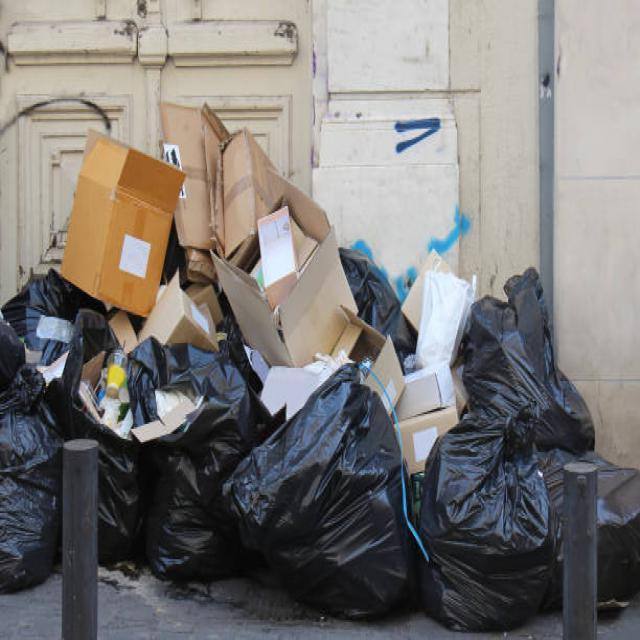Trashbag: (236, 393, 422, 605), (425, 428, 586, 628), (455, 297, 597, 438), (148, 431, 245, 597), (0, 370, 55, 582), (6, 267, 92, 381), (101, 443, 143, 568), (345, 260, 403, 343)
